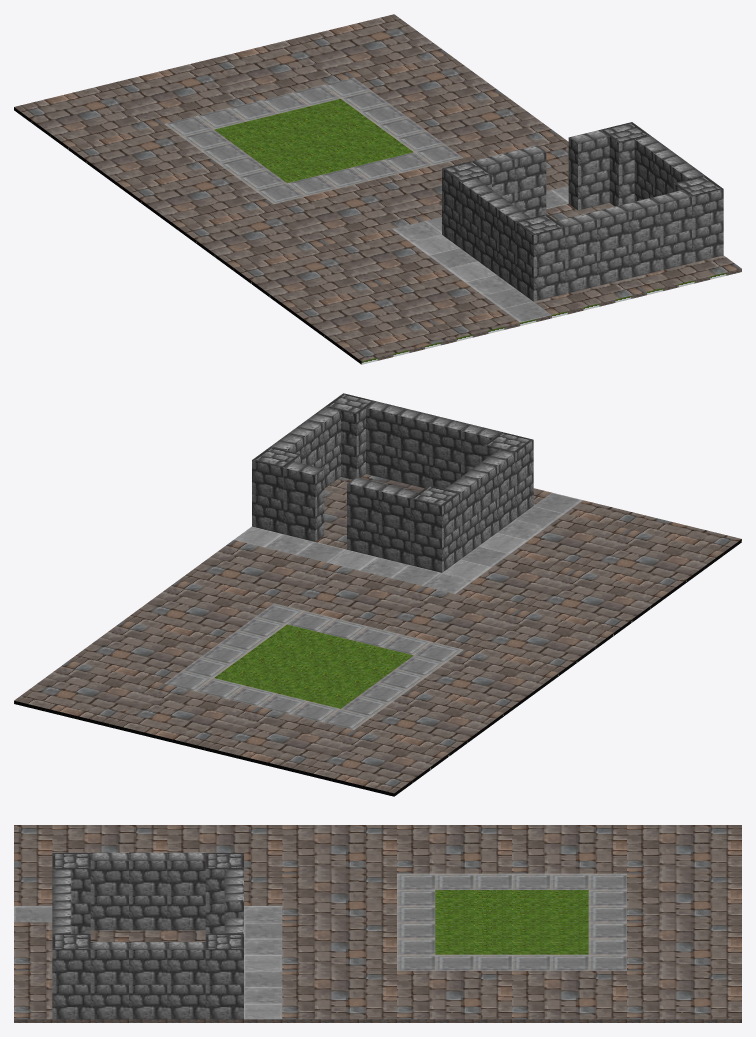
Rendered from FirstEnviroment.fbx.
The picture shows the model from 3 angles, top to bottom: view 1: azimuth 30°, elevation 25°; view 2: azimuth 150°, elevation 25°; view 3: azimuth 270°, elevation 25°; orthographic projection. The views are drawn at different scales.
Parts seen in each view (by area): view 1: Cube.040, Cube.085, Cube.157, Cube.001, Cube.082, Cube.081, Cube.083, Cube.052, Cube.162, Cube.160, Cube.161, Cube.086 (+5 smaller); view 2: Cube.040, Cube.161, Cube.157, Cube.162, Cube.159, Cube.082, Cube.083, Cube.160, Cube.001, Cube.052, Cube.085, Cube.166 (+5 smaller); view 3: Cube.040, Cube.001, Cube.162, Cube.166, Cube.086, Cube.163, Cube.165, Cube.084, Cube.164, Cube.085, Cube.161, Cube.160.
Boxes of the visible parts, box(x1,y1,x2,y2) form: Cube.040: box(14, 14, 741, 364); Cube.085: box(515, 214, 565, 301); Cube.157: box(568, 129, 609, 210); Cube.001: box(673, 175, 723, 262); Cube.082: box(620, 198, 660, 278); Cube.081: box(556, 213, 596, 293); Cube.083: box(651, 190, 691, 270); Cube.052: box(588, 205, 628, 285); Cube.162: box(601, 122, 649, 206); Cube.160: box(506, 145, 546, 217); Cube.161: box(442, 160, 491, 247); Cube.086: box(497, 204, 530, 287); Cube.040: box(14, 474, 741, 796); Cube.161: box(410, 485, 460, 572); Cube.157: box(283, 461, 324, 541); Cube.162: box(252, 447, 301, 533); Cube.159: box(378, 484, 418, 564); Cube.082: box(397, 409, 437, 488); Cube.083: box(366, 401, 406, 481); Cube.160: box(347, 476, 387, 557); Cube.001: box(325, 393, 374, 479); Cube.052: box(429, 416, 469, 489); Cube.085: box(483, 432, 533, 518); Cube.166: box(445, 476, 478, 559); Cube.040: box(14, 825, 741, 1022); Cube.001: box(52, 933, 90, 1019); Cube.162: box(205, 933, 243, 1019); Cube.166: box(167, 852, 205, 930); Cube.086: box(90, 852, 128, 930); Cube.163: box(129, 852, 167, 930); Cube.165: box(167, 942, 205, 1019); Cube.084: box(90, 942, 128, 1019); Cube.164: box(129, 942, 167, 1019); Cube.085: box(52, 852, 90, 933); Cube.161: box(205, 852, 243, 933); Cube.160: box(224, 885, 243, 917).
Size of the model in its own units: 1200 by 210 by 1900.
245 materials, 245 textured.
